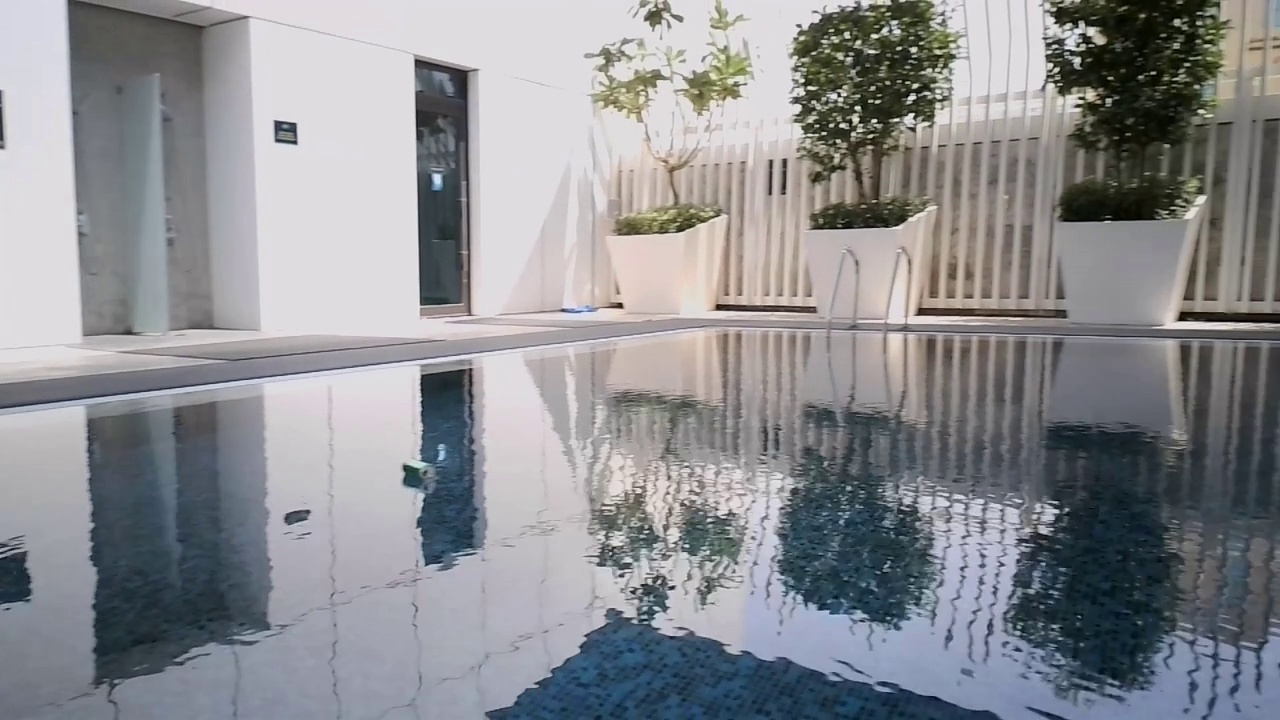debris: (397, 453, 438, 482)
